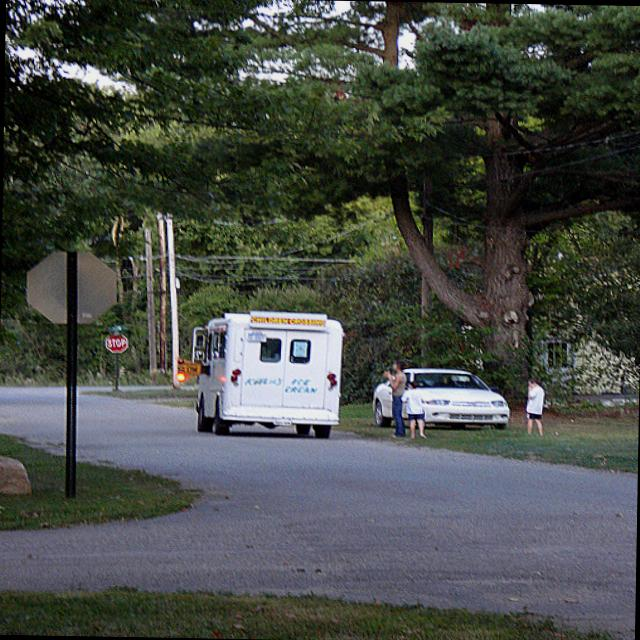Vehicle: (189, 306, 345, 438), (372, 368, 510, 430)
